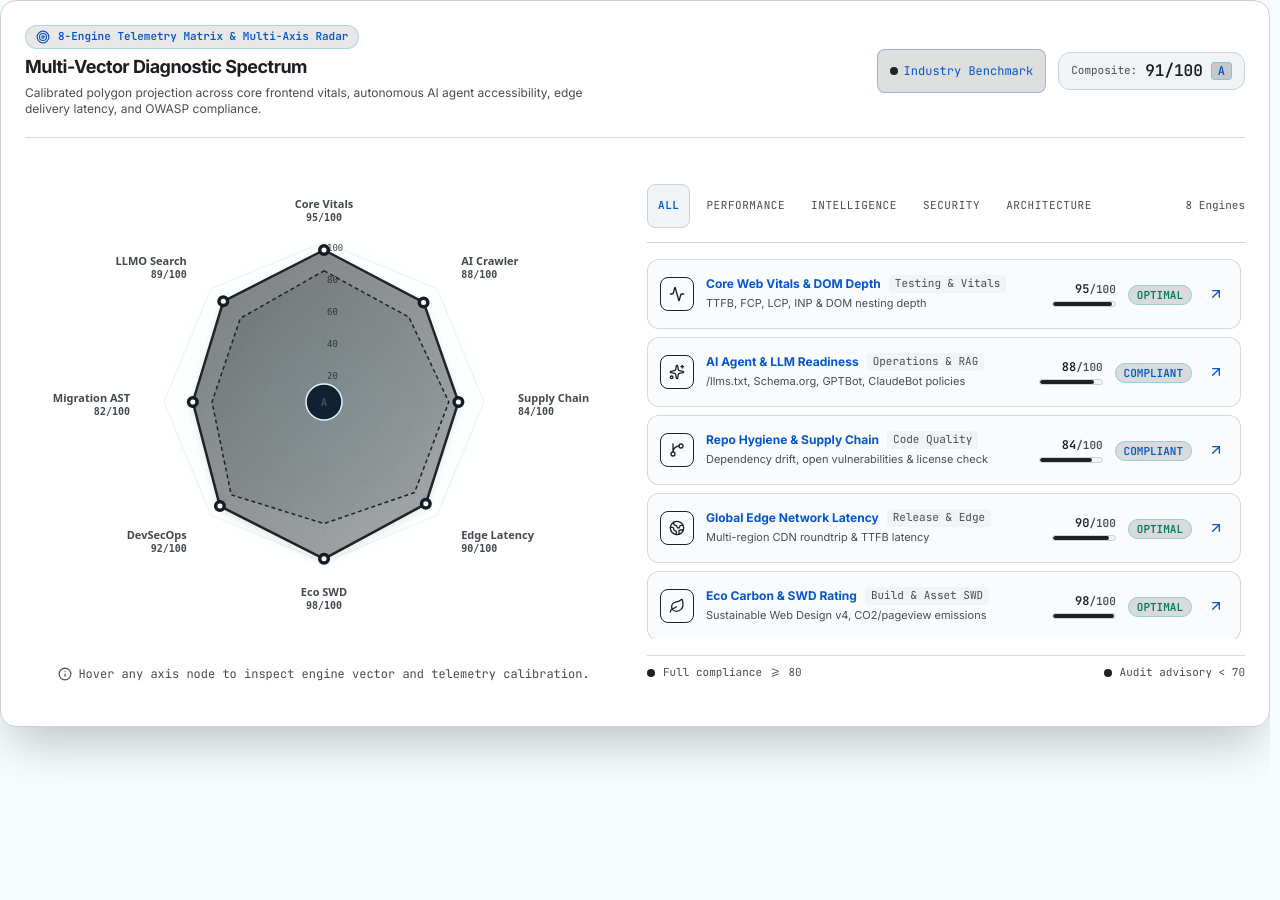
Test: AuditScoreMatrixRadar & Multi-Axis SVG Visualizer › filters score matrix rows by category
// Click Performance filter
Click the button "PERFORMANCE". click: click(746, 206)
box: left=696, top=184, right=795, bottom=228
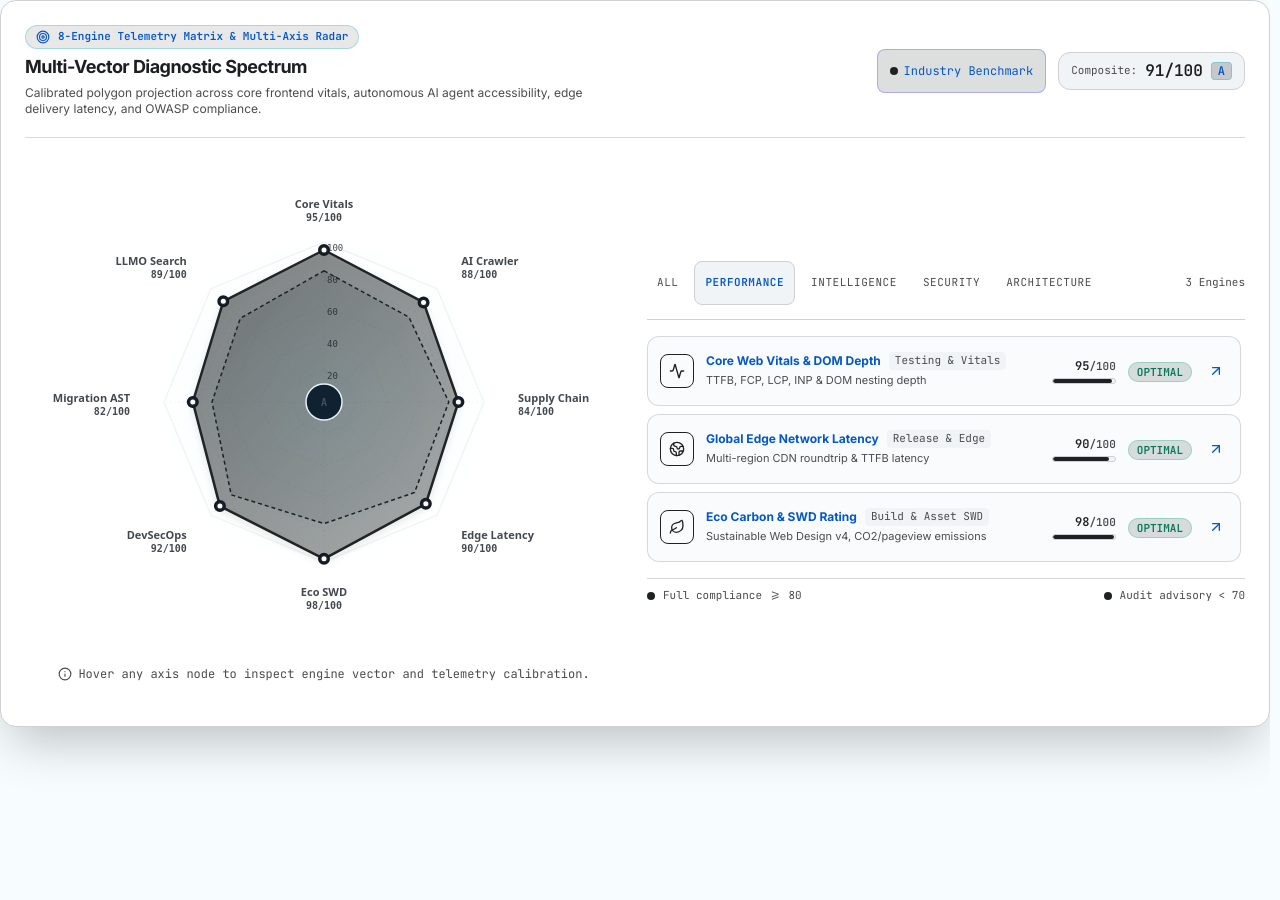
Check: the text "Core Web Vitals & DOM Depth" is shown, box left=706, top=353, right=881, bottom=369
Check: the text "Global Edge Network Latency" is shown, box left=706, top=431, right=879, bottom=447
// Switch back to ALL
Click the button "ALL". click: click(668, 283)
box: left=647, top=261, right=688, bottom=305
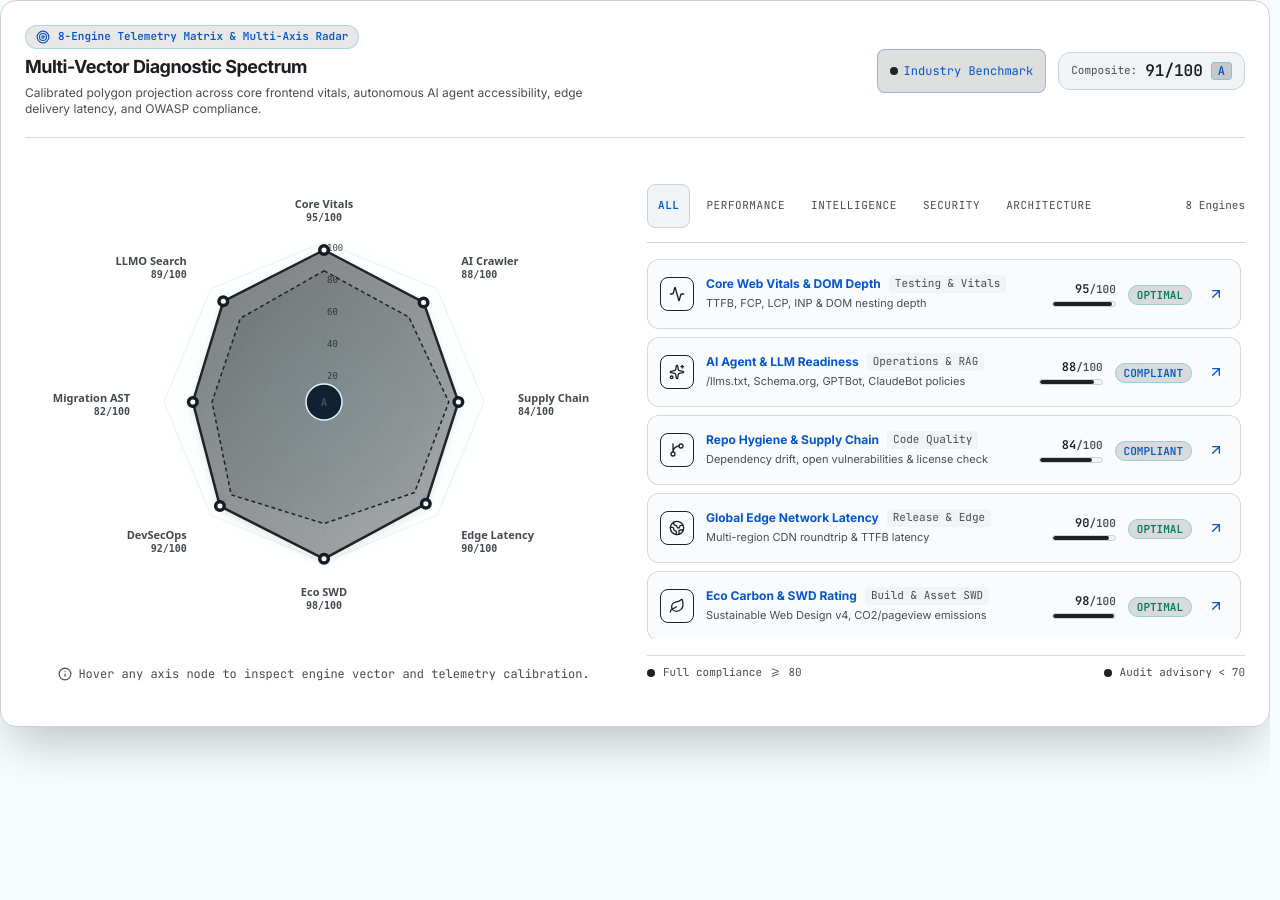
Check: the text "AI Agent & LLM Readiness" is shown, box left=706, top=354, right=859, bottom=370
